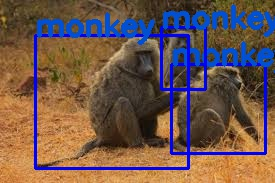monkey: (35, 35, 188, 168), (170, 63, 264, 152), (161, 27, 205, 89)
